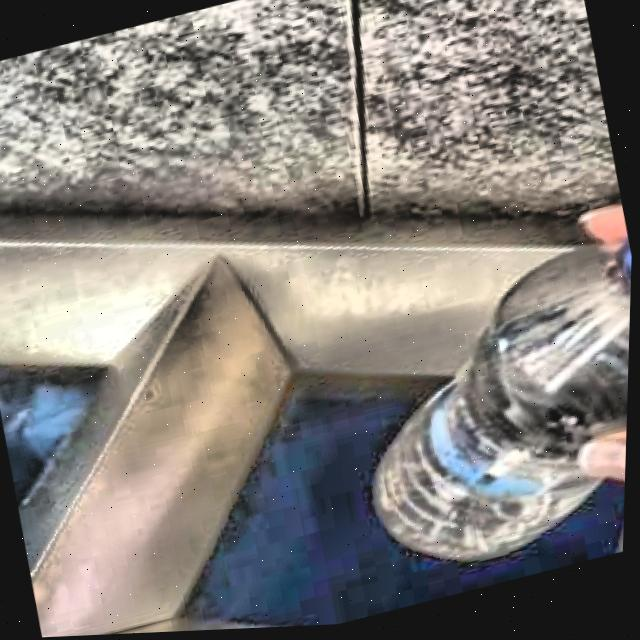plastic: (378, 249, 633, 564)
